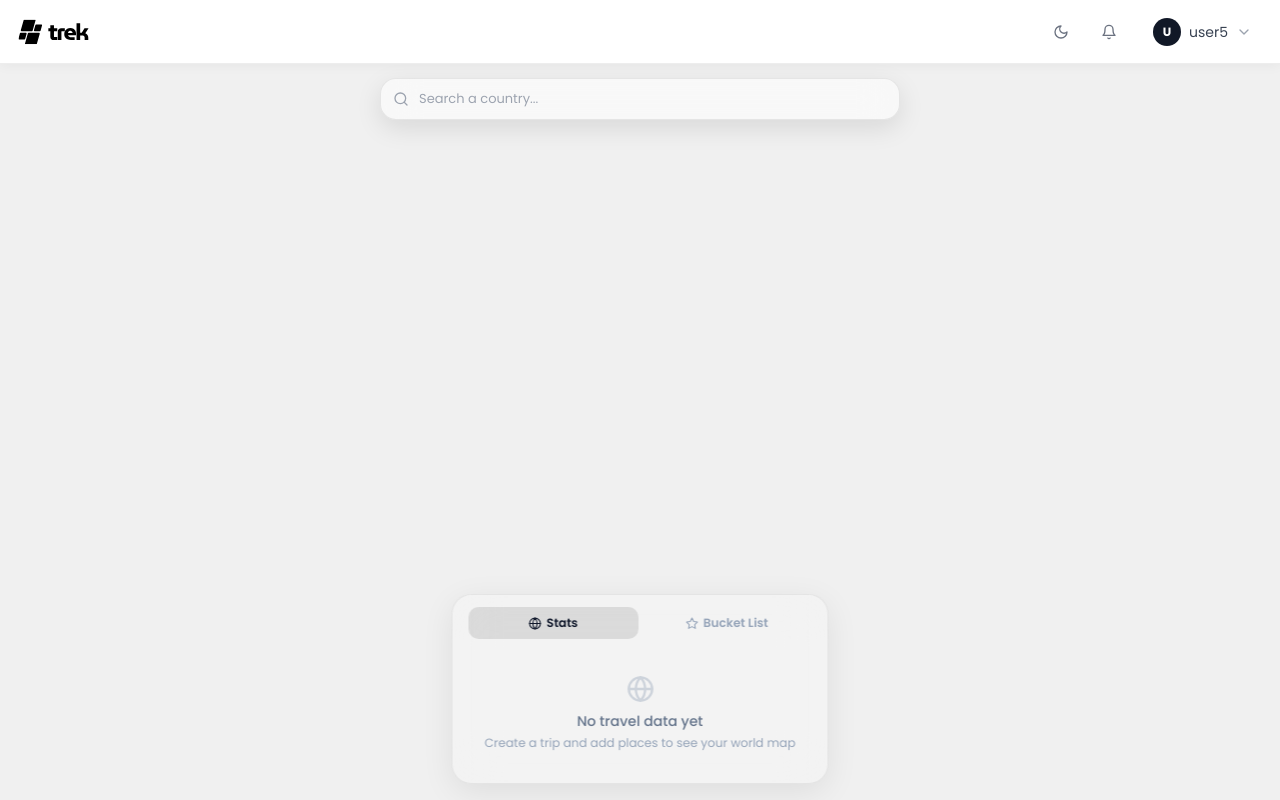
Test: AtlasPage › FE-PAGE-ATLAS-018: search clear button resets input › clicking the X button clears the search input
The image size is (1280, 800).
Type "Paris" into the field with placeholder "Search a country...".
click(653, 99); type("Paris")  # box [419,89,887,108]
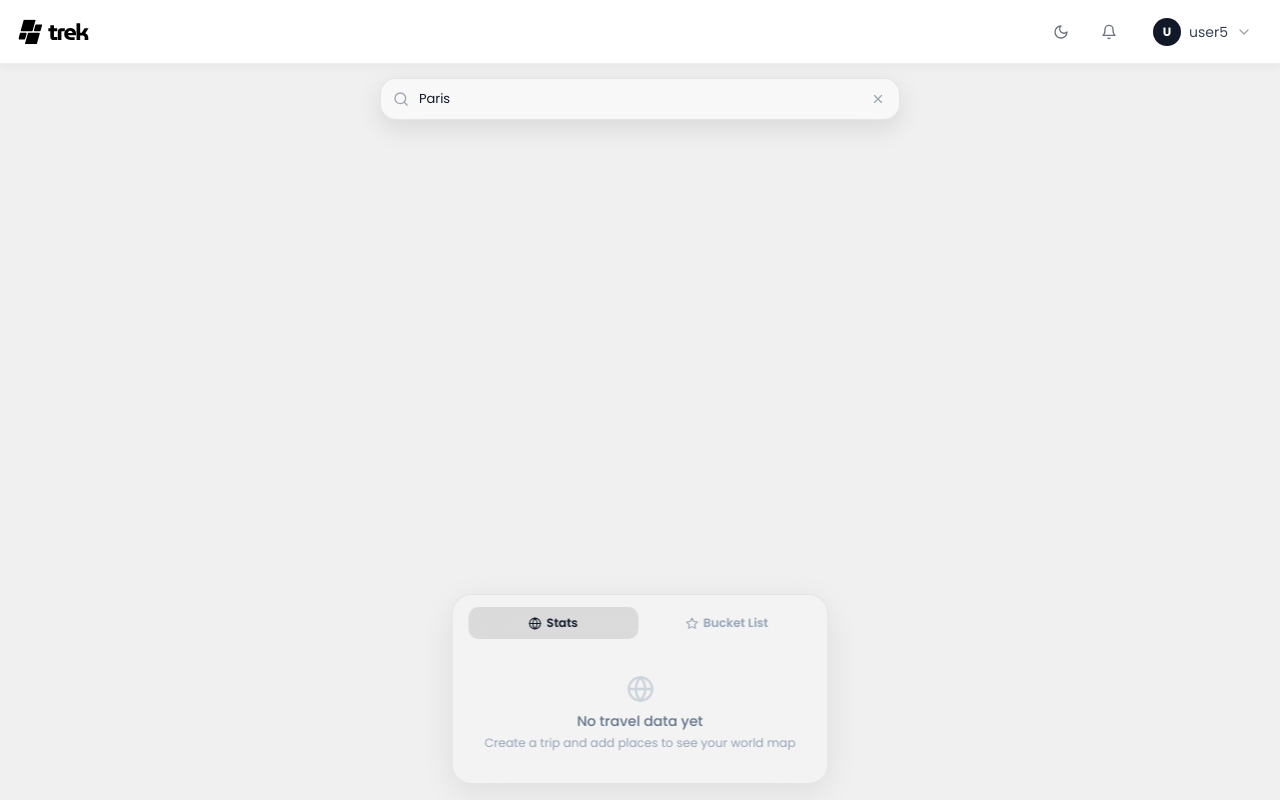
Now the button named "clear" is shown
Click the button named "clear".
click(878, 99)  # box [869,90,887,108]
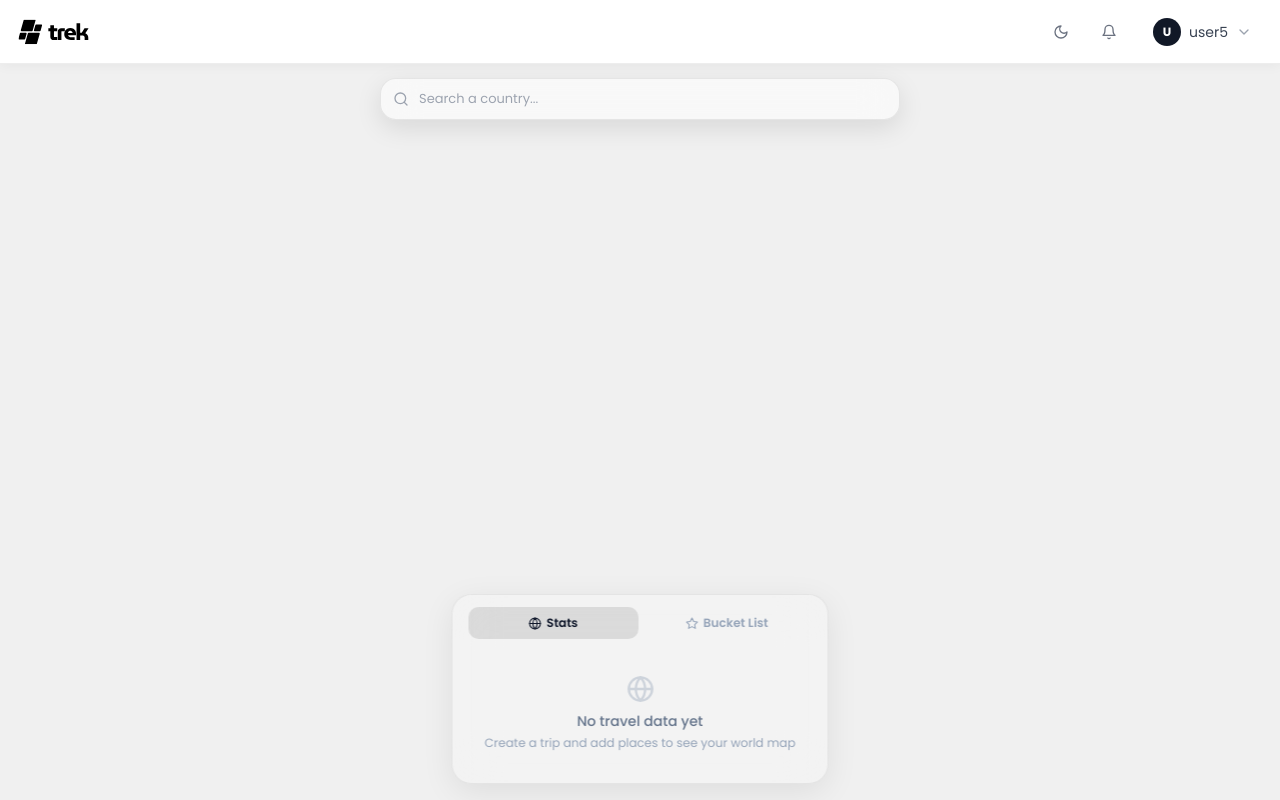
Now the field with placeholder "Search a country..." is empty, box [419,89,887,108]
